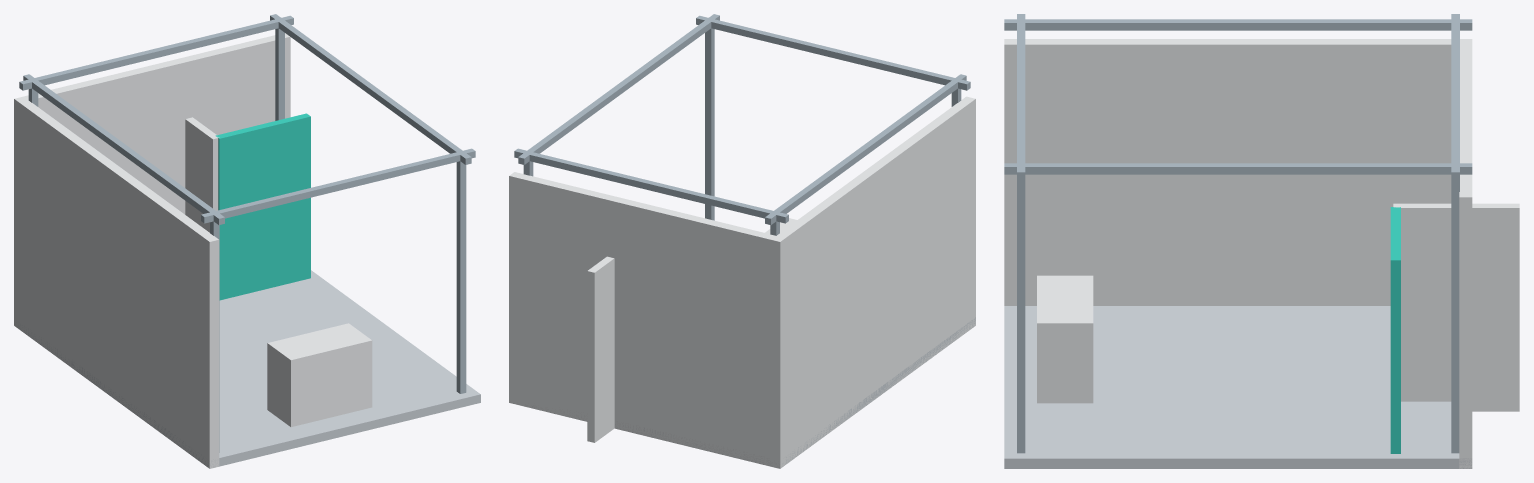
The picture shows the model from 3 angles, left to right: view 1: azimuth 30°, elevation 25°; view 2: azimuth 150°, elevation 25°; view 3: azimuth 270°, elevation 25°; orthographic projection. The views are drawn at different scales.
Parts seen in each view (by area): view 1: Exhibition Booth Concept; view 2: Exhibition Booth Concept; view 3: Exhibition Booth Concept.
Boxes of the visible parts, x1=… form: Exhibition Booth Concept: x1=14, y1=14, x2=480, y2=468; Exhibition Booth Concept: x1=509, y1=14, x2=975, y2=468; Exhibition Booth Concept: x1=1004, y1=14, x2=1519, y2=468.
Bounding box in the file's own units: 4 × 3.49 × 5.51.
